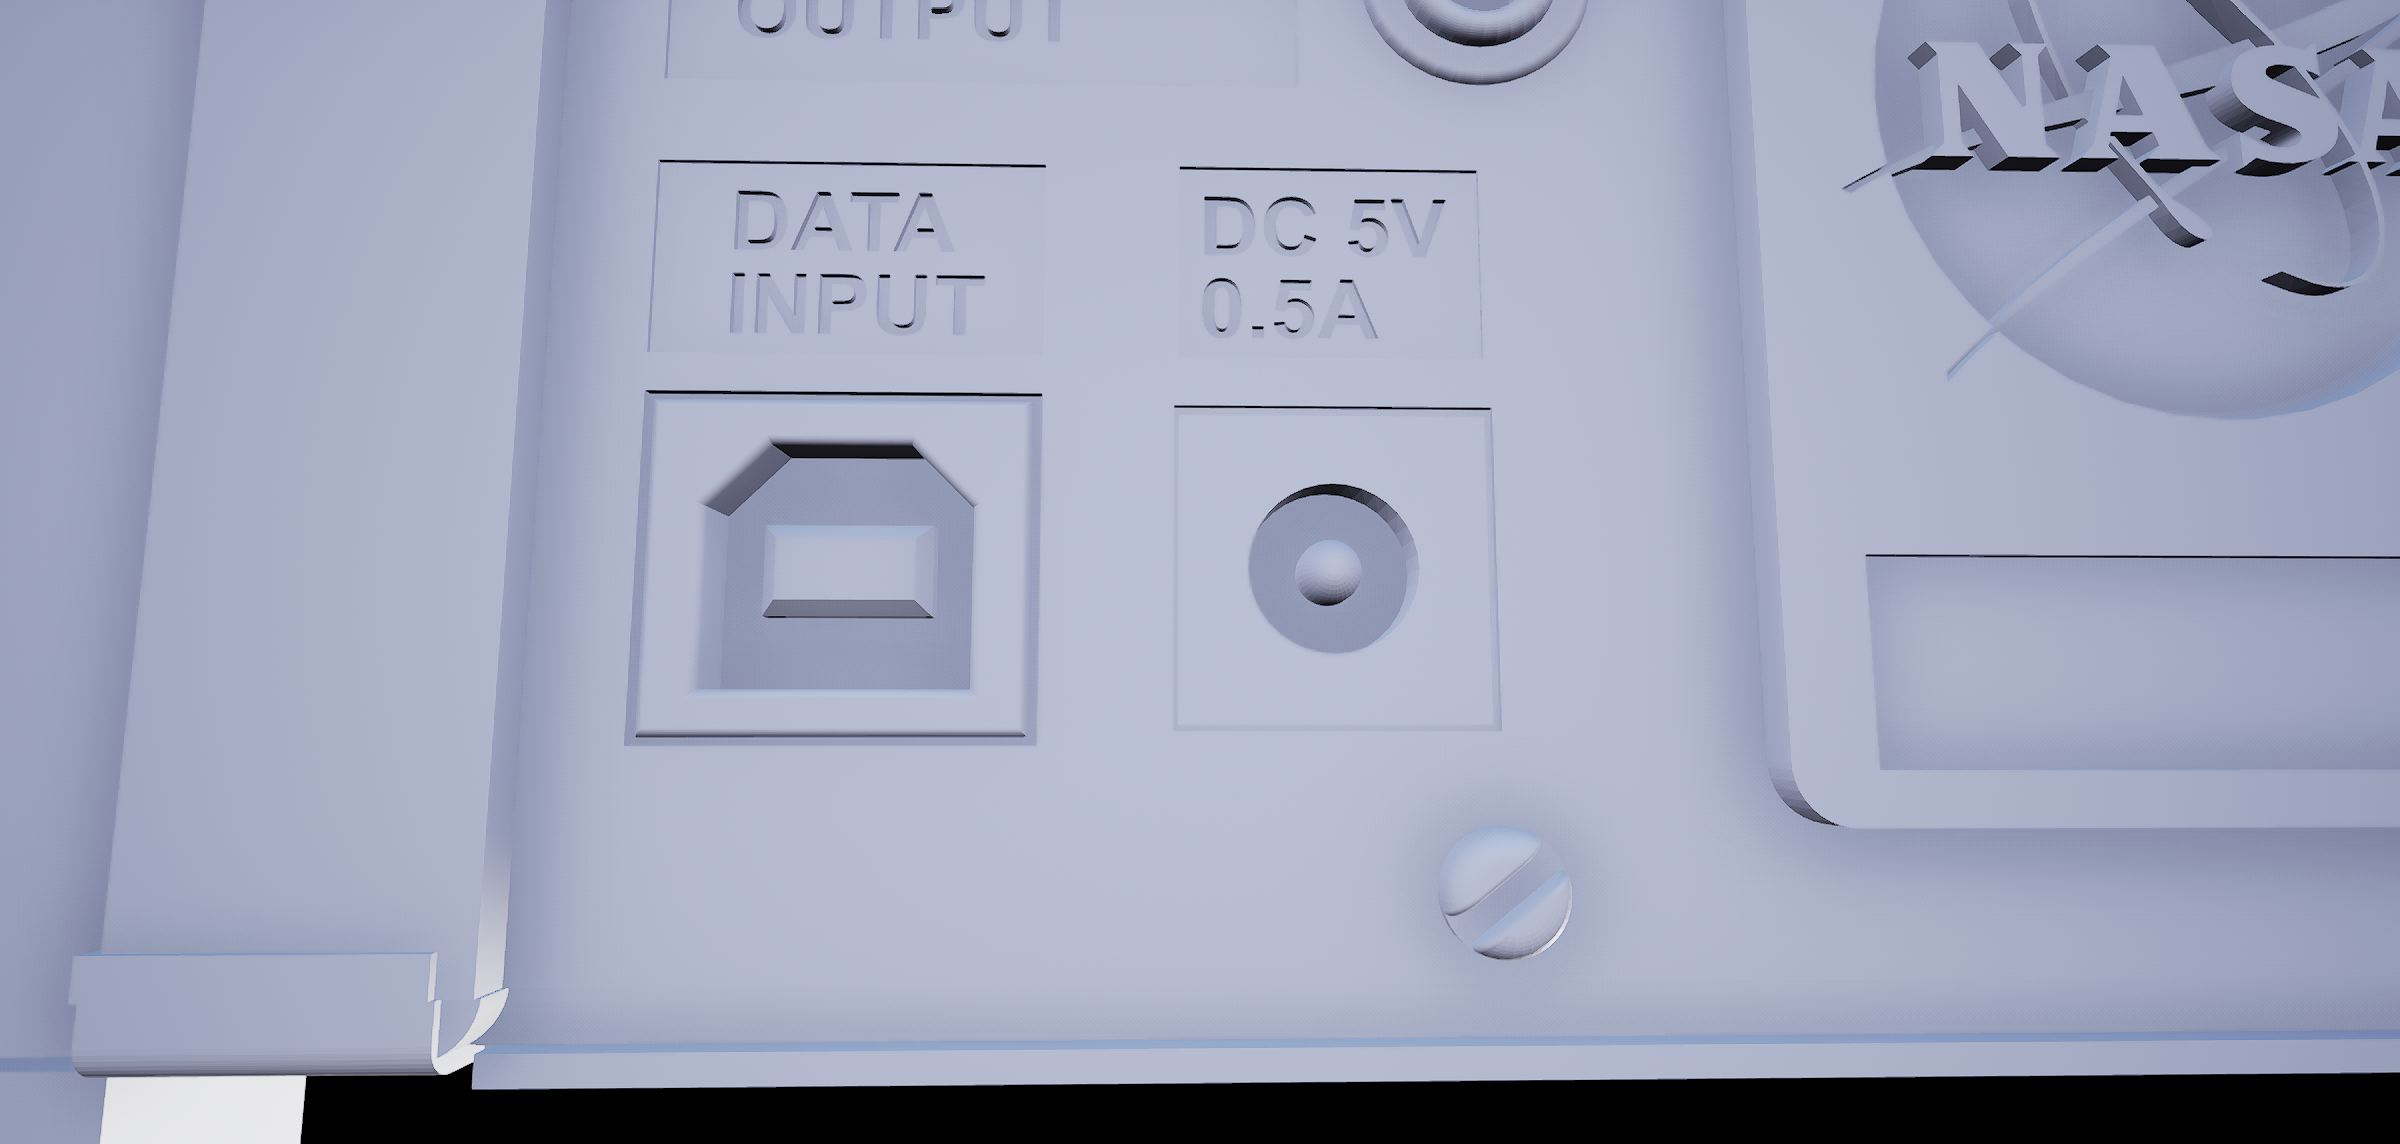aux: (1358, 2, 1601, 95)
dc: (1235, 469, 1437, 668)
usb: (683, 421, 986, 711)
